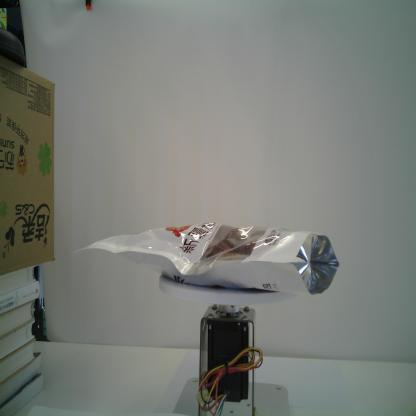Dried Food: (72, 220, 340, 297)
